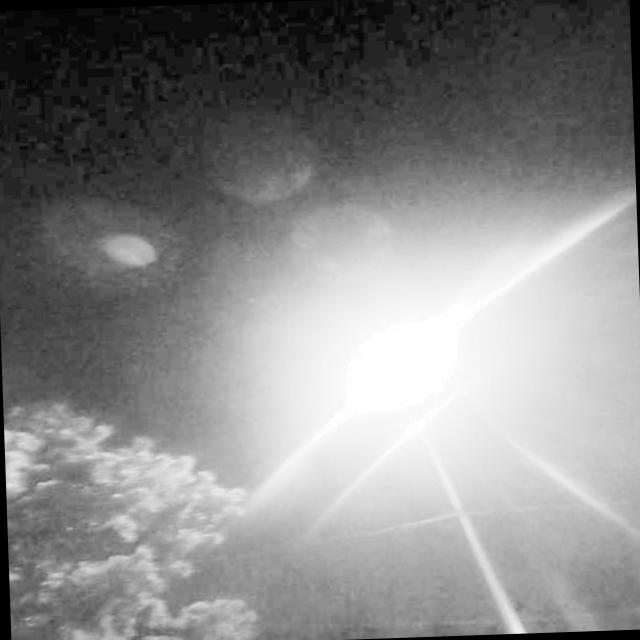Light: (332, 290, 472, 412), (384, 395, 444, 450)
